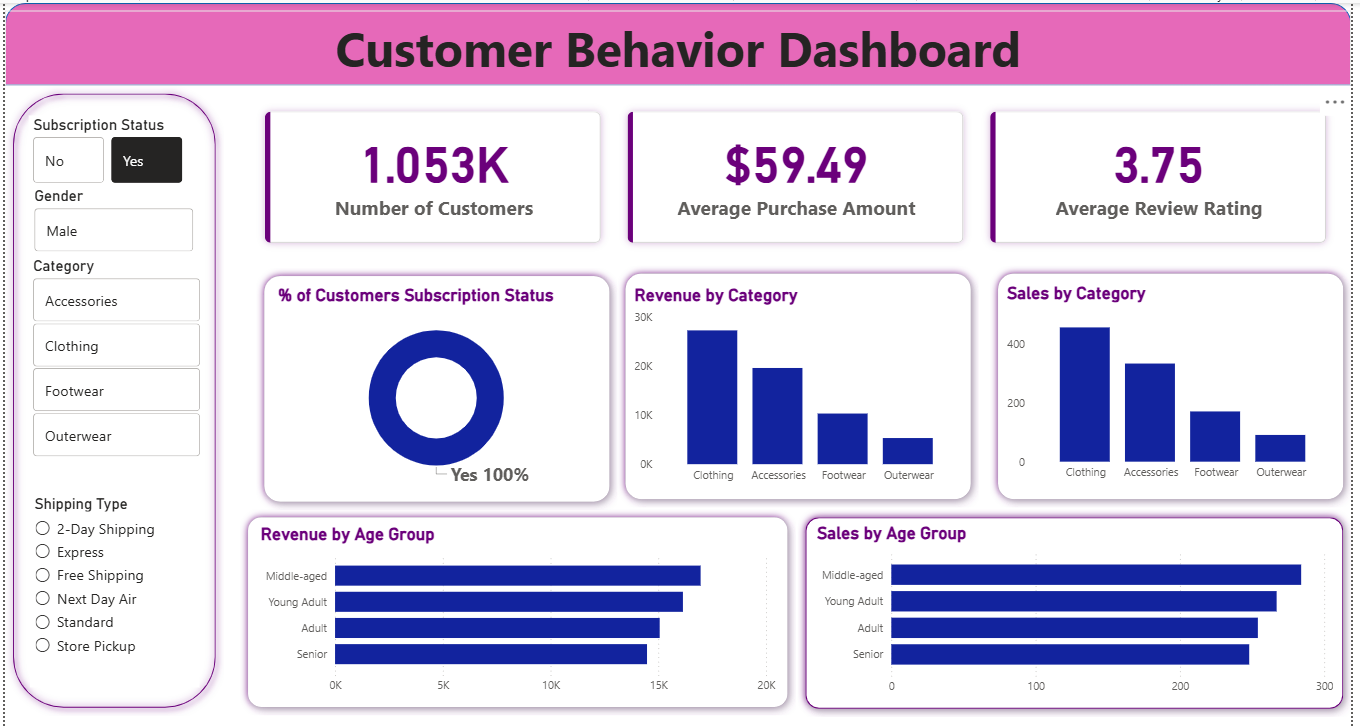

This screenshot's page, from the dashboard's own definition file:
{"tool":"powerbi","page":{"name":"Page 1","canvas":[1500,820],"ordinal":0},"visuals":[{"type":"cardVisual","fields":{"Data":["customer_behavior customer.Number of Customers","customer_behavior customer.Average Purchase Amount","customer_behavior customer.Average Review Rating"]},"box":[262.2,93.1,1238.1,202],"z":0},{"type":"shape","box":[0,0,1499.9,91.9],"z":1000},{"type":"textbox","box":[0,8.4,1499.9,83.6],"z":2000},{"type":"shape","box":[279.4,295.2,402.7,269.4],"z":3000},{"type":"donutChart","title":"% of Customers Subscription Status","fields":{"Category":["customer_behavior customer.subscription_status"],"Series":["customer_behavior customer.subscription_status"],"Y":["CountNonNull(customer_behavior customer.customer_id)"]},"box":[299.5,315.2,362.5,229.3],"z":4000},{"type":"shape","box":[682.1,292.3,402.7,269.4],"z":5000},{"type":"shape","box":[1097.6,292.3,402.7,269.4],"z":6000},{"type":"clusteredColumnChart","title":"Revenue by Category","fields":{"Y":["Sum(customer_behavior customer.purchase_amount)"],"Category":["customer_behavior customer.category"]},"box":[696.4,315.2,374,229.3],"z":7000},{"type":"clusteredColumnChart","title":"Sales by Category","fields":{"Y":["CountNonNull(customer_behavior customer.customer_id)"],"Category":["customer_behavior customer.category"]},"box":[1112,312.4,374,229.3],"z":8000},{"type":"shape","box":[0,91.7,243.6,702.1],"z":9000},{"type":"advancedSlicerVisual","fields":{"Values":["customer_behavior customer.subscription_status"]},"box":[25.8,124.7,177.7,80.2],"z":10000},{"type":"advancedSlicerVisual","fields":{"Values":["customer_behavior customer.gender"]},"box":[27.2,204.9,187.7,77.4],"z":11000},{"type":"advancedSlicerVisual","fields":{"Values":["customer_behavior customer.category"]},"box":[25.8,282.3,196.3,227.8],"z":12000},{"type":"listSlicer","fields":{"Values":["customer_behavior customer.shipping_type"]},"box":[27.2,547.4,189.1,214.9],"z":13000},{"type":"shape","box":[262.2,564.6,619,229.3],"z":14000},{"type":"clusteredBarChart","title":"Revenue by Age Group","fields":{"Y":["Sum(customer_behavior customer.purchase_amount)"],"Category":["customer_behavior customer.age_group"]},"box":[279.4,580.3,583.2,197.7],"z":15000},{"type":"shape","box":[883,564,617,231.2],"z":16000},{"type":"clusteredBarChart","title":"Sales by Age Group","fields":{"Y":["CountNonNull(customer_behavior customer.customer_id)"],"Category":["customer_behavior customer.age_group"]},"box":[899.2,579.7,585.4,199.8],"z":17000}]}

Visuals, with their boxes in screenshot pixels (x1, y1, x2, y2), scaled from the page's 1500x820 canvas onto the 1360x727 screenshot:
cardVisual - customer_behavior customer.Number of Customers x customer_behavior customer.Average Purchase Amount: region(238, 83, 1359, 262)
shape: region(0, 0, 1359, 81)
textbox: region(0, 7, 1359, 82)
shape: region(253, 262, 618, 501)
"% of Customers Subscription Status" donutChart: region(272, 279, 600, 483)
shape: region(618, 259, 984, 498)
shape: region(995, 259, 1359, 498)
"Revenue by Category" clusteredColumnChart: region(631, 279, 970, 483)
"Sales by Category" clusteredColumnChart: region(1008, 277, 1347, 480)
shape: region(0, 81, 221, 704)
advancedSlicerVisual - customer_behavior customer.subscription_status: region(23, 111, 185, 182)
advancedSlicerVisual - customer_behavior customer.gender: region(25, 182, 195, 250)
advancedSlicerVisual - customer_behavior customer.category: region(23, 250, 201, 452)
listSlicer - customer_behavior customer.shipping_type: region(25, 485, 196, 676)
shape: region(238, 501, 799, 704)
"Revenue by Age Group" clusteredBarChart: region(253, 514, 782, 690)
shape: region(801, 500, 1359, 705)
"Sales by Age Group" clusteredBarChart: region(815, 514, 1346, 691)
